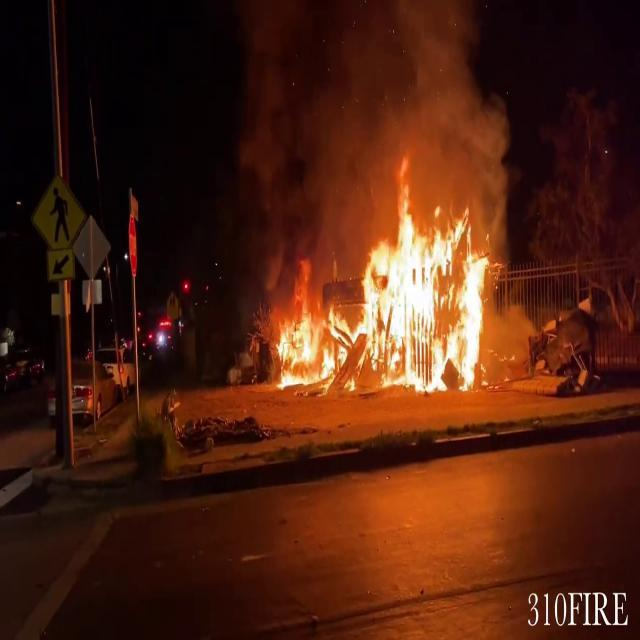Fire: (271, 184, 506, 396)
Smoke: (224, 0, 518, 219)
